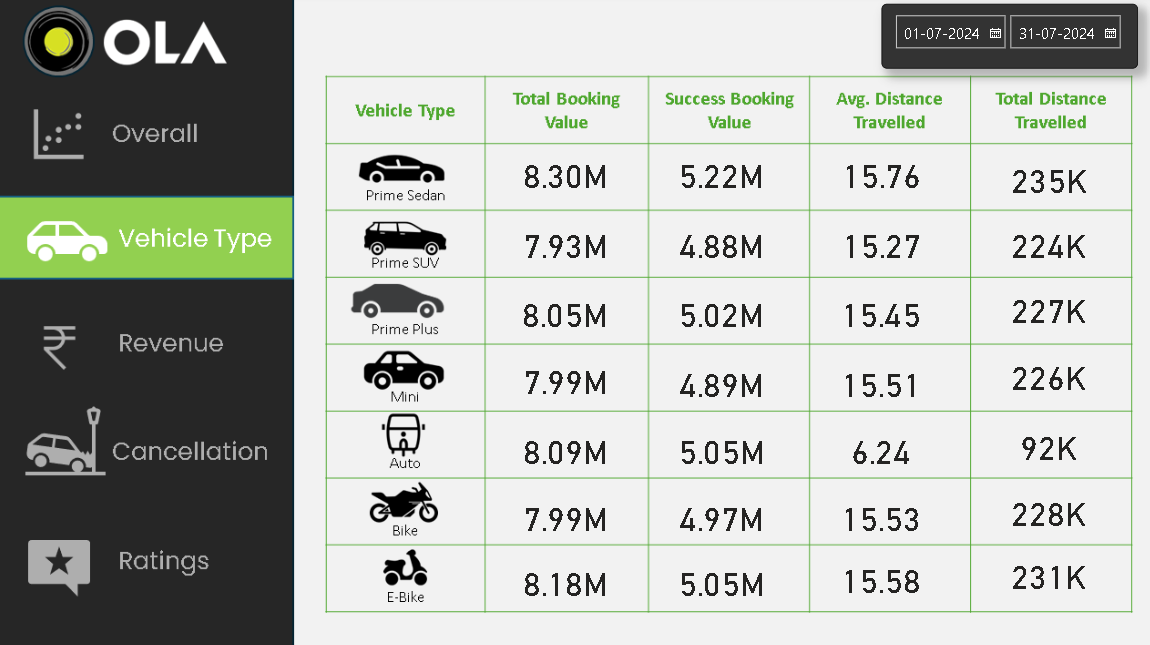

Layout of this report page (visuals, bound fields, positions):
{"tool":"powerbi","page":{"name":"Vehicle type","canvas":[1280,720],"ordinal":1},"visuals":[{"type":"actionButton","box":[0,107.4,323.3,89.3],"z":0},{"type":"actionButton","box":[0,333,323.3,89.3],"z":1000},{"type":"actionButton","box":[0,454.8,323.3,89.3],"z":2000},{"type":"actionButton","box":[0,577.9,323.3,89.3],"z":3000},{"type":"card","fields":{"Values":["Sum(July.Booking_Value)"]},"box":[562.2,167.7,118.2,56.7],"z":4000},{"type":"card","fields":{"Values":["Sum(July.Booking_Value)"]},"box":[562.6,244.3,118,57.6],"z":5000},{"type":"card","fields":{"Values":["Sum(July.Booking_Value)"]},"box":[562.6,319.7,118,57.6],"z":6000},{"type":"card","fields":{"Values":["Sum(July.Booking_Value)"]},"box":[562.6,393.8,118,57.6],"z":7000},{"type":"card","fields":{"Values":["Sum(July.Booking_Value)"]},"box":[562.6,470.7,118,57.6],"z":8000},{"type":"card","fields":{"Values":["Sum(July.Booking_Value)"]},"box":[562.6,543.4,118,57.6],"z":9000},{"type":"card","fields":{"Values":["Sum(July.Booking_Value)"]},"box":[562.6,620.2,118,46.7],"z":10000},{"type":"card","fields":{"Values":["Sum(July.Booking_Value)"]},"box":[734.1,167.4,118,57.6],"z":11000},{"type":"card","fields":{"Values":["Avg(July.Ride_Distance)"]},"box":[909.8,167.4,118,57.6],"z":12000},{"type":"card","fields":{"Values":["Sum(July.Ride_Distance)"]},"box":[1093.7,177,118,48],"z":25000},{"type":"slicer","title":"Date","fields":{"Values":["July.Date"]},"box":[968.8,9.6,281.3,71.4],"z":32000},{"type":"card","fields":{"Values":["Sum(July.Booking_Value)"]},"box":[734.1,244.3,118,57.6],"z":32001},{"type":"card","fields":{"Values":["Sum(July.Booking_Value)"]},"box":[734.1,319.7,118,57.6],"z":32002},{"type":"card","fields":{"Values":["Sum(July.Booking_Value)"]},"box":[734.1,396.6,118,57.6],"z":32003},{"type":"card","fields":{"Values":["Sum(July.Booking_Value)"]},"box":[734.1,470.7,118,57.6],"z":32004},{"type":"card","fields":{"Values":["Sum(July.Booking_Value)"]},"box":[734.1,543.4,118,57.6],"z":32005},{"type":"card","fields":{"Values":["Sum(July.Booking_Value)"]},"box":[734.1,620.2,118,46.7],"z":32006},{"type":"card","fields":{"Values":["Avg(July.Ride_Distance)"]},"box":[909.8,244.3,118,57.6],"z":32007},{"type":"card","fields":{"Values":["Avg(July.Ride_Distance)"]},"box":[909.8,319.7,118,57.6],"z":32008},{"type":"card","fields":{"Values":["Avg(July.Ride_Distance)"]},"box":[909.8,396.6,118,57.6],"z":32009},{"type":"card","fields":{"Values":["Avg(July.Ride_Distance)"]},"box":[909.8,470.7,118,57.6],"z":32010},{"type":"card","fields":{"Values":["Avg(July.Ride_Distance)"]},"box":[909.8,543.4,118,57.6],"z":32011},{"type":"card","fields":{"Values":["Avg(July.Ride_Distance)"]},"box":[909.8,612,118,57.6],"z":32012},{"type":"card","fields":{"Values":["Sum(July.Ride_Distance)"]},"box":[1093.7,248.4,118,48],"z":32013},{"type":"card","fields":{"Values":["Sum(July.Ride_Distance)"]},"box":[1093.7,319.7,118,48],"z":32014},{"type":"card","fields":{"Values":["Sum(July.Ride_Distance)"]},"box":[1093.7,393.8,118,48],"z":32015},{"type":"card","fields":{"Values":["Sum(July.Ride_Distance)"]},"box":[1093.7,470.7,118,48],"z":32016},{"type":"card","fields":{"Values":["Sum(July.Ride_Distance)"]},"box":[1093.7,543.4,118,48],"z":32017},{"type":"card","fields":{"Values":["Sum(July.Ride_Distance)"]},"box":[1093.7,612,118,48],"z":32018}]}

Visuals, with their boxes on the page's 1280x720 design canvas (x1, y1, x2, y2). These are canvas units, not pixel positions in the 1150x645 screenshot, which may show the page scaled, cropped or inside an application window:
actionButton: select_region(0, 107, 323, 197)
actionButton: select_region(0, 333, 323, 422)
actionButton: select_region(0, 455, 323, 544)
actionButton: select_region(0, 578, 323, 667)
card - Sum(July.Booking_Value): select_region(562, 168, 680, 224)
card - Sum(July.Booking_Value): select_region(563, 244, 681, 302)
card - Sum(July.Booking_Value): select_region(563, 320, 681, 377)
card - Sum(July.Booking_Value): select_region(563, 394, 681, 451)
card - Sum(July.Booking_Value): select_region(563, 471, 681, 528)
card - Sum(July.Booking_Value): select_region(563, 543, 681, 601)
card - Sum(July.Booking_Value): select_region(563, 620, 681, 667)
card - Sum(July.Booking_Value): select_region(734, 167, 852, 225)
card - Avg(July.Ride_Distance): select_region(910, 167, 1028, 225)
card - Sum(July.Ride_Distance): select_region(1094, 177, 1212, 225)
"Date" slicer: select_region(969, 10, 1250, 81)
card - Sum(July.Booking_Value): select_region(734, 244, 852, 302)
card - Sum(July.Booking_Value): select_region(734, 320, 852, 377)
card - Sum(July.Booking_Value): select_region(734, 397, 852, 454)
card - Sum(July.Booking_Value): select_region(734, 471, 852, 528)
card - Sum(July.Booking_Value): select_region(734, 543, 852, 601)
card - Sum(July.Booking_Value): select_region(734, 620, 852, 667)
card - Avg(July.Ride_Distance): select_region(910, 244, 1028, 302)
card - Avg(July.Ride_Distance): select_region(910, 320, 1028, 377)
card - Avg(July.Ride_Distance): select_region(910, 397, 1028, 454)
card - Avg(July.Ride_Distance): select_region(910, 471, 1028, 528)
card - Avg(July.Ride_Distance): select_region(910, 543, 1028, 601)
card - Avg(July.Ride_Distance): select_region(910, 612, 1028, 670)
card - Sum(July.Ride_Distance): select_region(1094, 248, 1212, 296)
card - Sum(July.Ride_Distance): select_region(1094, 320, 1212, 368)
card - Sum(July.Ride_Distance): select_region(1094, 394, 1212, 442)
card - Sum(July.Ride_Distance): select_region(1094, 471, 1212, 519)
card - Sum(July.Ride_Distance): select_region(1094, 543, 1212, 591)
card - Sum(July.Ride_Distance): select_region(1094, 612, 1212, 660)
